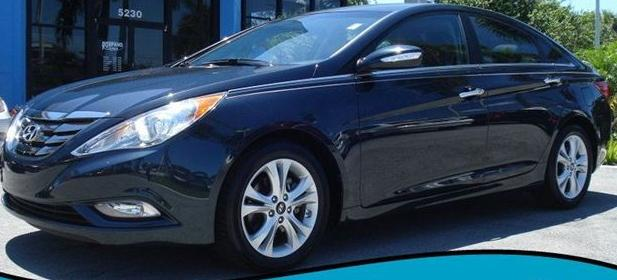front_view: (0, 78, 228, 247)
headlight: (73, 90, 226, 161)
side_glass: (350, 3, 583, 75)
